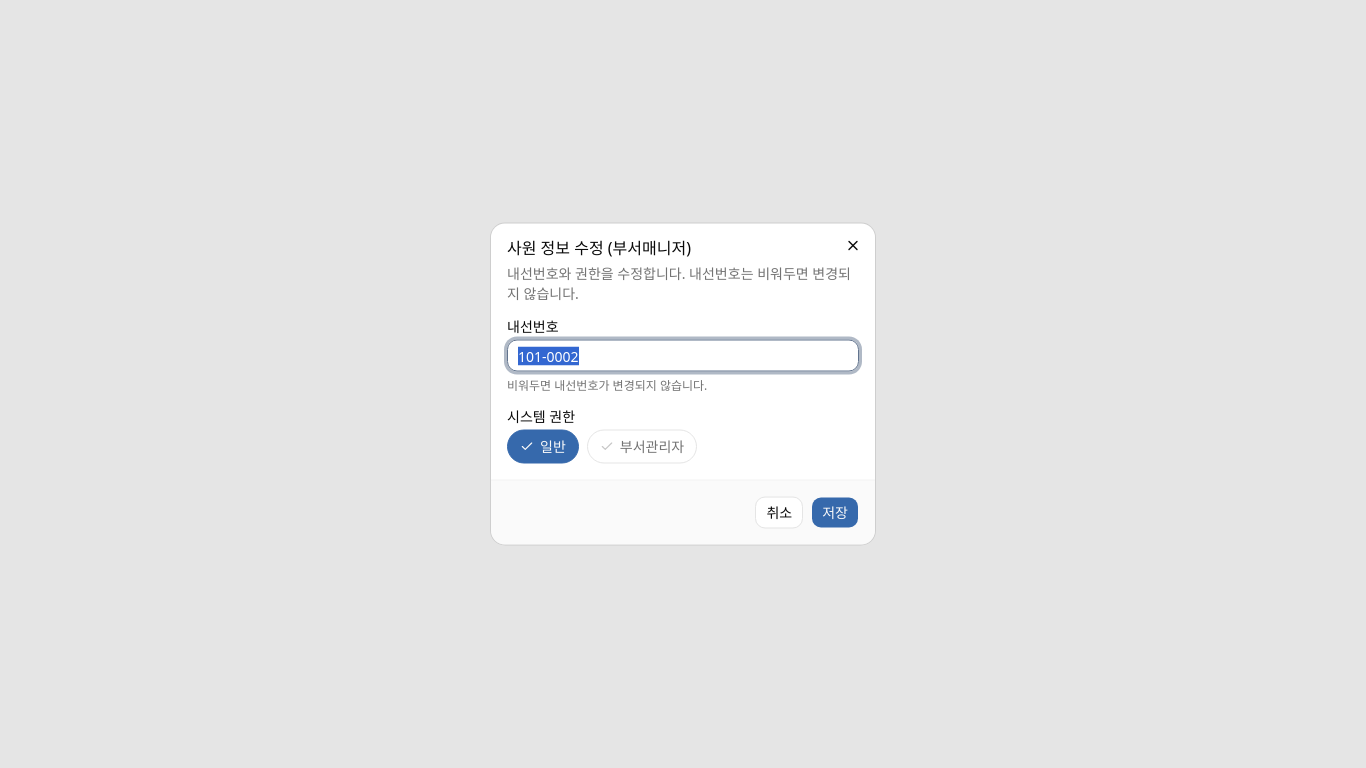
DeptManagedInfoDialog - 제출 › 서버 검증 실패(상위 권한 부여 시도 등) 시 다이얼로그가 닫히지 않고 root 에러가 표시된다
Click the button "저장" at (835, 512), box [811, 496, 859, 528]
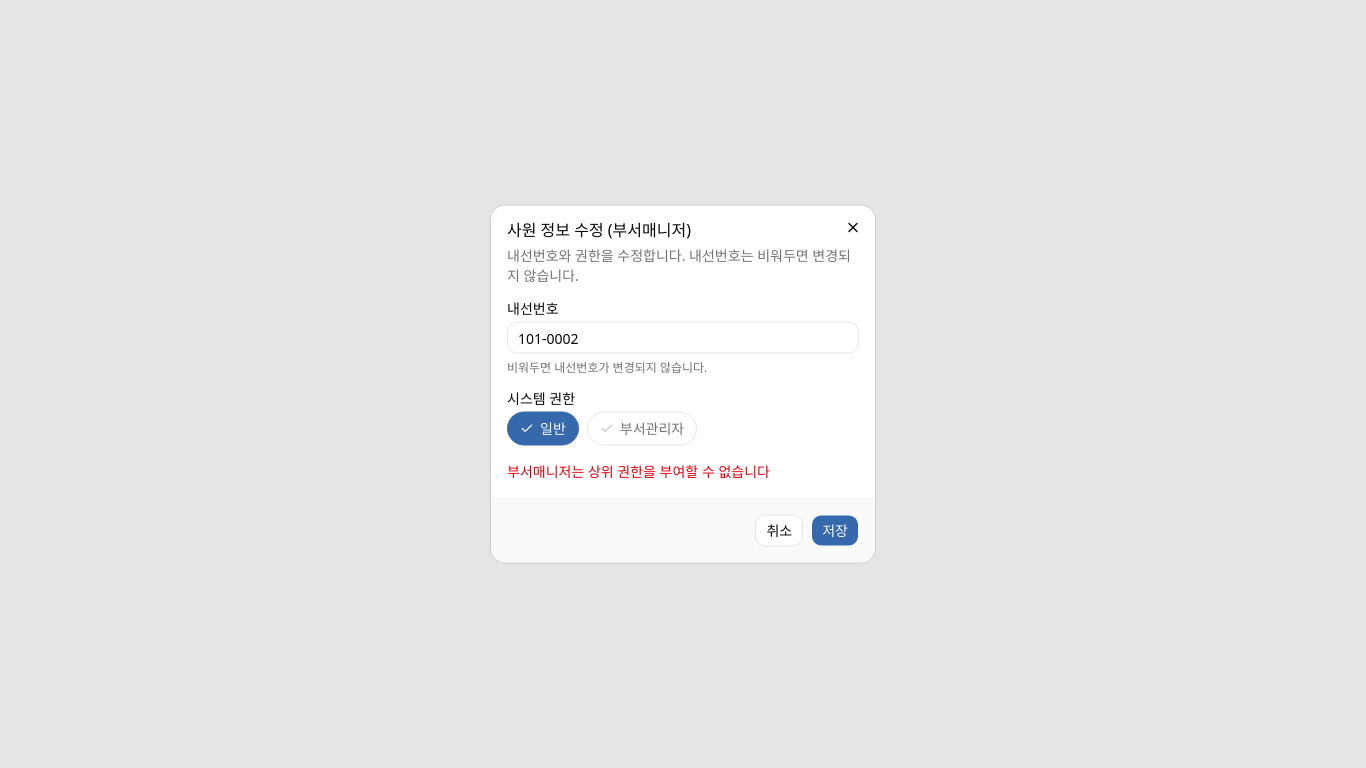
Now the text "부서매니저는 상위 권한을 부여할 수 없습니다" is shown, box [507, 462, 770, 480]
